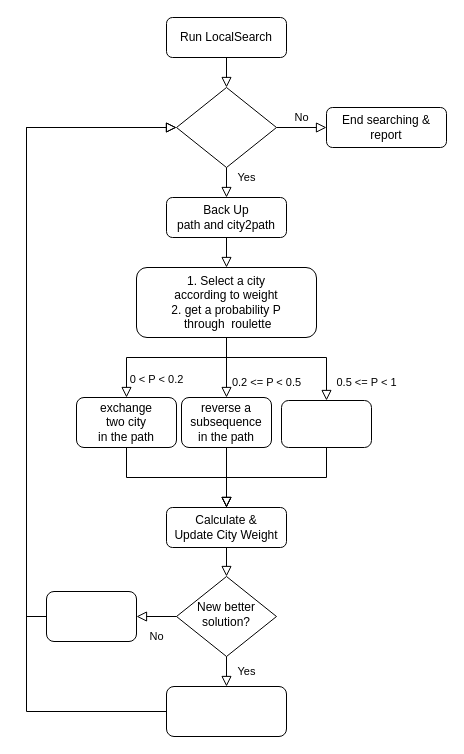
The diagram is 464 pixels wide and 754 high, and some of its shapes have lost their labels. Each missing label, with the box of its shape:
counter < Loop Limit: (176, 86, 276, 168)
do 3-opt on the path: (280, 400, 372, 448)
Recover with backup: (46, 590, 136, 642)
Update Optimal Solution & Save History: (166, 686, 286, 736)
